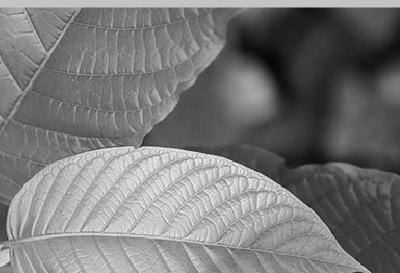kratom: (0, 154, 374, 272)
